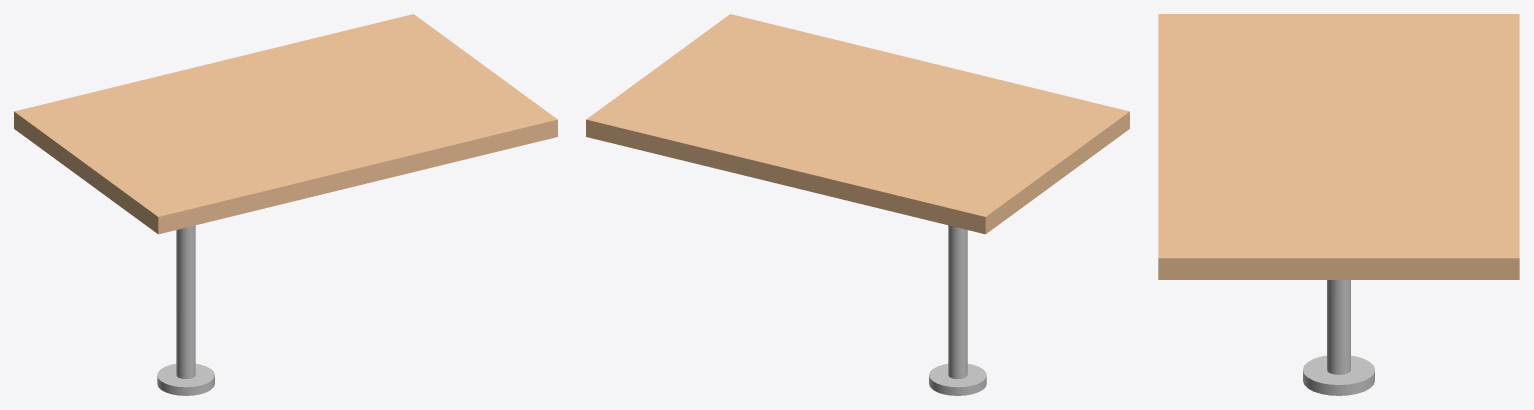
Rendered from table.dae.
3 views of the same model, side by side, from view 1: azimuth 30°, elevation 25°; view 2: azimuth 150°, elevation 25°; view 3: azimuth 270°, elevation 25° (orthographic). The views are drawn at different scales.
Visible parts, largest first — view 1: SketchUp_003; view 2: SketchUp_003; view 3: SketchUp_003.
Boxes of the visible parts, x1,y1,x2,y2 form: SketchUp_003: (14,14,557,395); SketchUp_003: (586,14,1129,395); SketchUp_003: (1158,14,1519,395).
Size of the model in its own units: 1.22 by 0.762 by 0.7112.
